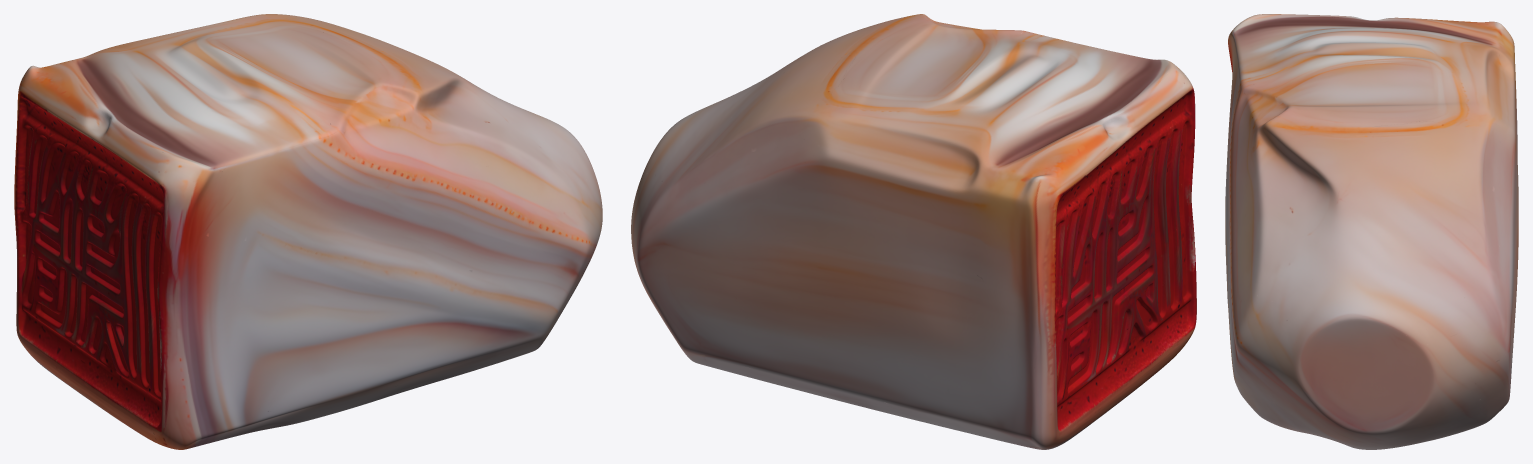
File: 台儿庄战役期间,第73旅旅长戴安澜专门镌刻了铁汉印章.glb
3 views of the same model, side by side, from view 1: azimuth 30°, elevation 25°; view 2: azimuth 150°, elevation 25°; view 3: azimuth 270°, elevation 25° (orthographic). The views are drawn at different scales.
Parts seen in each view (by area): view 1: texture_pbr_v128; view 2: texture_pbr_v128; view 3: texture_pbr_v128.
Part boxes in pixels (x1=…): texture_pbr_v128: x1=14, y1=14, x2=602, y2=449; texture_pbr_v128: x1=631, y1=14, x2=1196, y2=449; texture_pbr_v128: x1=1225, y1=14, x2=1518, y2=449.
Size of the model in its own units: 0.9657 by 0.6229 by 0.5976.
Materials: 1 (1 with a texture image).
